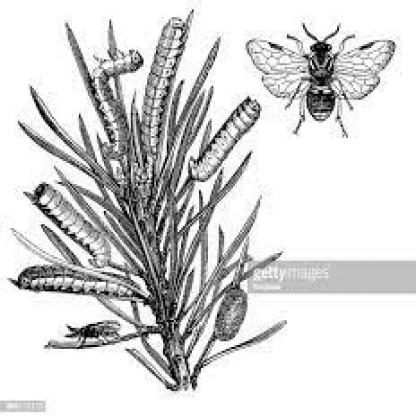sawfly: (242, 20, 396, 136), (135, 15, 198, 166), (88, 48, 146, 160), (34, 182, 110, 267), (190, 94, 260, 185), (14, 259, 151, 300), (61, 316, 124, 350), (213, 285, 248, 345)
